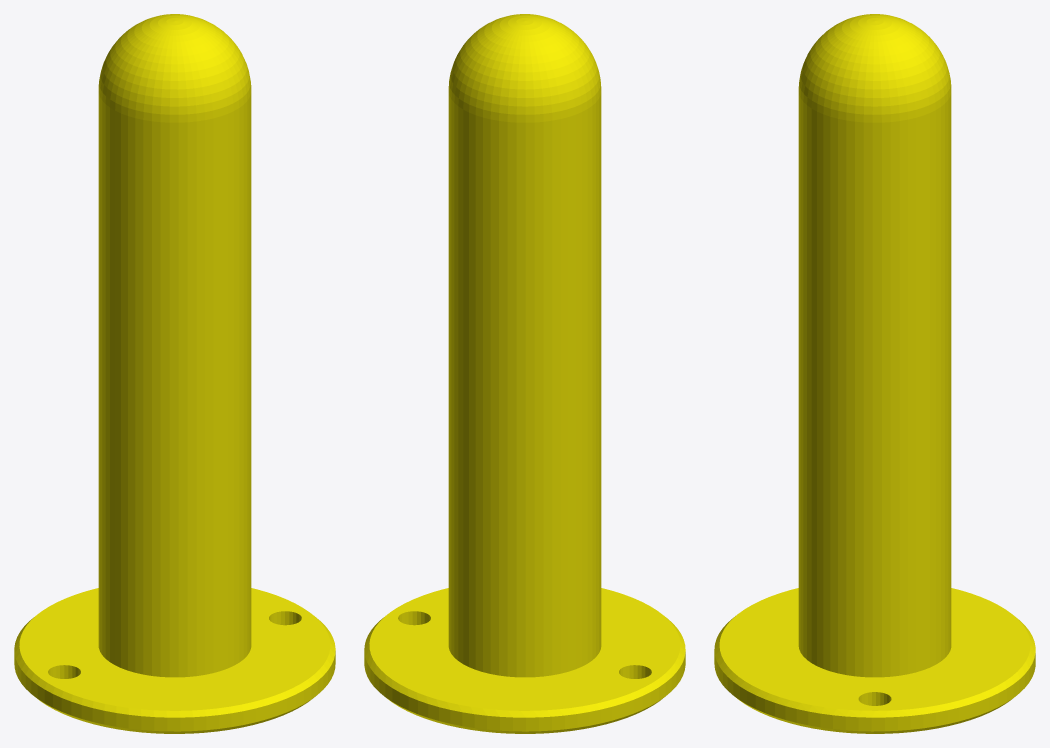
File: finger_v2.dae
The picture shows the model from 3 angles, left to right: view 1: azimuth 30°, elevation 25°; view 2: azimuth 150°, elevation 25°; view 3: azimuth 270°, elevation 25°; orthographic projection.
Parts seen in each view (by area): view 1: franka-finger-v2; view 2: franka-finger-v2; view 3: franka-finger-v2.
Boxes of the visible parts, bbox=[...] form: franka-finger-v2: bbox=[14, 14, 335, 733]; franka-finger-v2: bbox=[364, 14, 685, 733]; franka-finger-v2: bbox=[714, 14, 1035, 733].
Bounding box in the file's own units: 0.063 × 0.063 × 0.1425.
